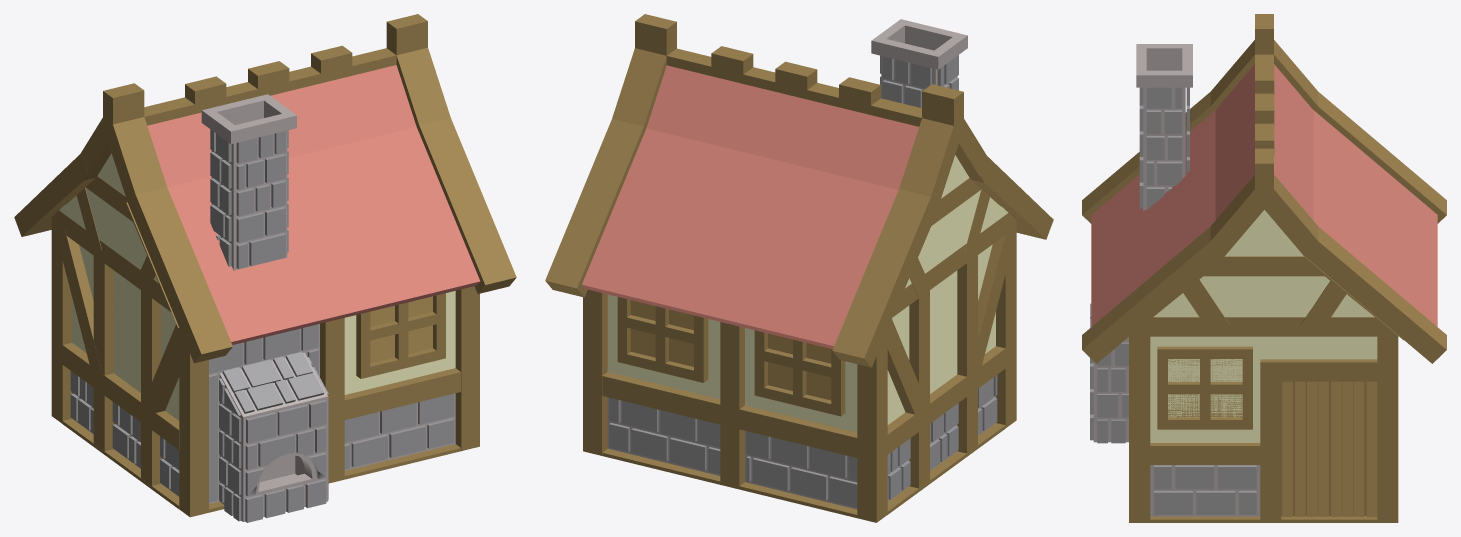
The model's file is pho-nha-nen-2.glb.
The picture shows the model from 3 angles, left to right: view 1: azimuth 30°, elevation 25°; view 2: azimuth 150°, elevation 25°; view 3: azimuth 270°, elevation 25°; orthographic projection. The views are drawn at different scales.
Visible parts, largest first — view 1: pho-nha-nen-2; view 2: pho-nha-nen-2; view 3: pho-nha-nen-2.
Part boxes in pixels (x1=…): pho-nha-nen-2: x1=14, y1=14, x2=516, y2=522; pho-nha-nen-2: x1=545, y1=14, x2=1053, y2=522; pho-nha-nen-2: x1=1082, y1=14, x2=1446, y2=522.
Bounding box in the file's own units: 12.6 × 14.21 × 12.87.
